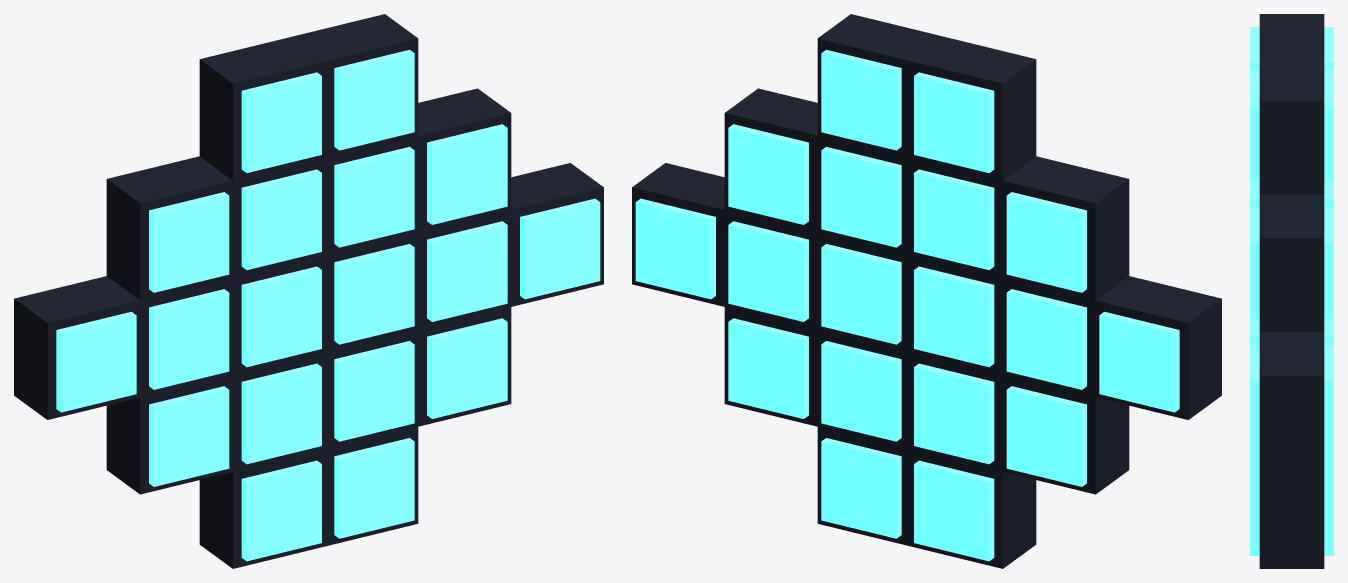
3 renders of one model, left to right at view 1: azimuth 30°, elevation 25°; view 2: azimuth 150°, elevation 25°; view 3: azimuth 270°, elevation 25°, orthographic. The views are drawn at different scales.
Visible parts, largest first — view 1: pixel_sprite_gem.lod0; view 2: pixel_sprite_gem.lod0; view 3: pixel_sprite_gem.lod0.
Boxes of the visible parts, <box> form: pixel_sprite_gem.lod0: <box>14,14,603,568</box>; pixel_sprite_gem.lod0: <box>632,14,1221,568</box>; pixel_sprite_gem.lod0: <box>1250,14,1333,568</box>.
Bounding box in the file's own units: 0.96 × 0.8 × 0.13.
